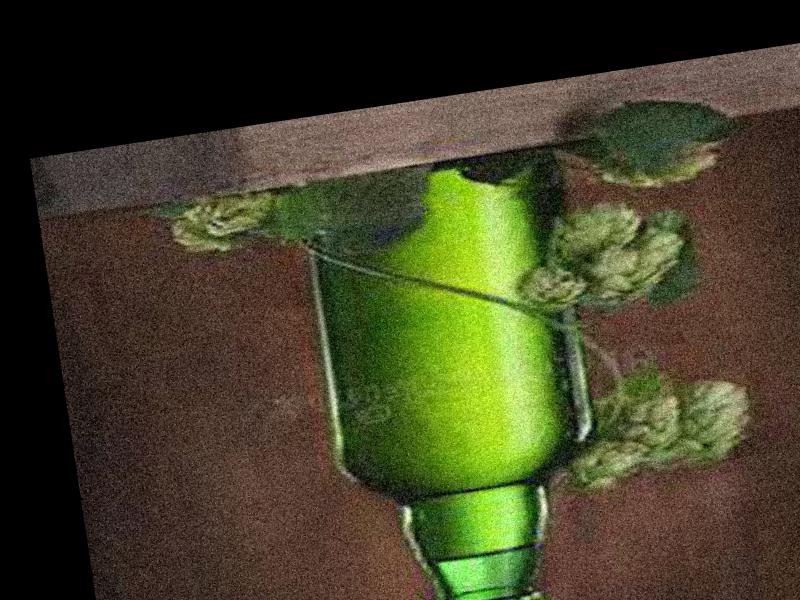Beer: (292, 138, 615, 600)
